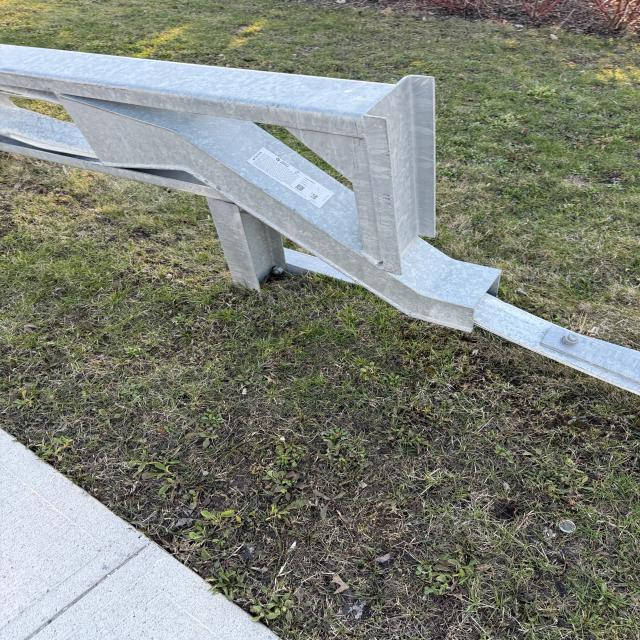Guard rail: (0, 53, 486, 288)
